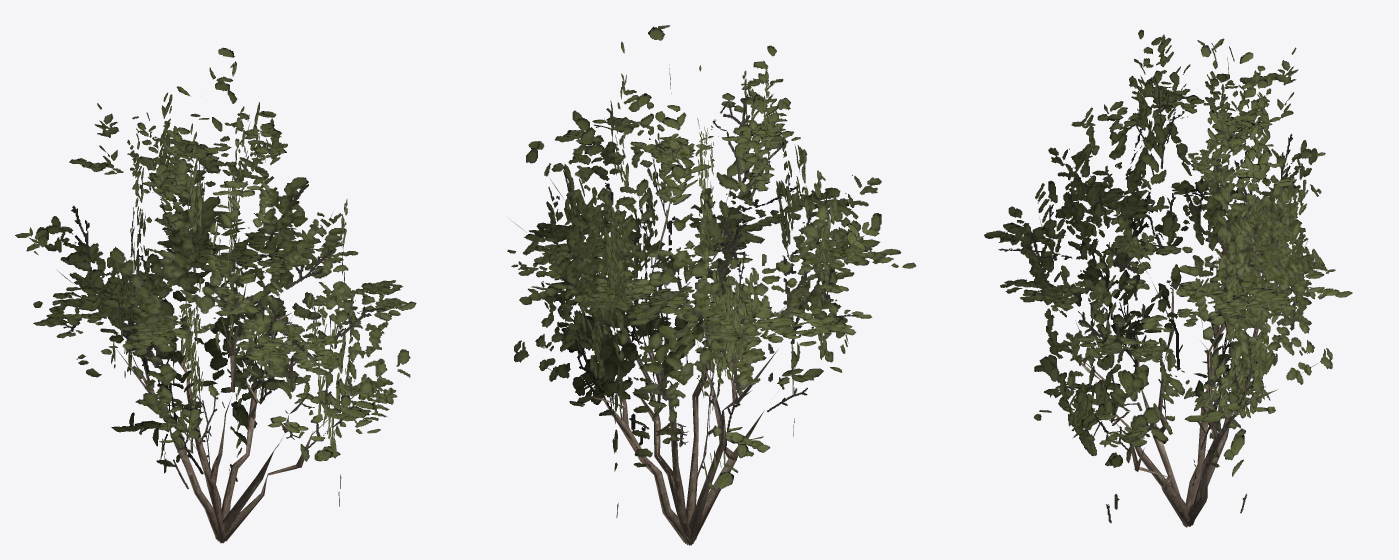
File: bush_d.glb
3 renders of one model, left to right at view 1: azimuth 30°, elevation 25°; view 2: azimuth 150°, elevation 25°; view 3: azimuth 270°, elevation 25°, orthographic. The views are drawn at different scales.
Visible parts, largest first — view 1: foliage, searsia_lucida_d_LOD0; view 2: foliage, searsia_lucida_d_LOD0; view 3: foliage, searsia_lucida_d_LOD0.
Part boxes in pixels (left/top/right/bottom): foliage: left=15, top=47, right=416, bottom=506; searsia_lucida_d_LOD0: left=58, top=126, right=358, bottom=543; foliage: left=507, top=25, right=916, bottom=517; searsia_lucida_d_LOD0: left=511, top=64, right=786, bottom=545; foliage: left=984, top=29, right=1352, bottom=523; searsia_lucida_d_LOD0: left=1039, top=57, right=1317, bottom=527.
Bounding box in the file's own units: 1.15 × 1.39 × 1.1.
2 materials, 2 textured.
